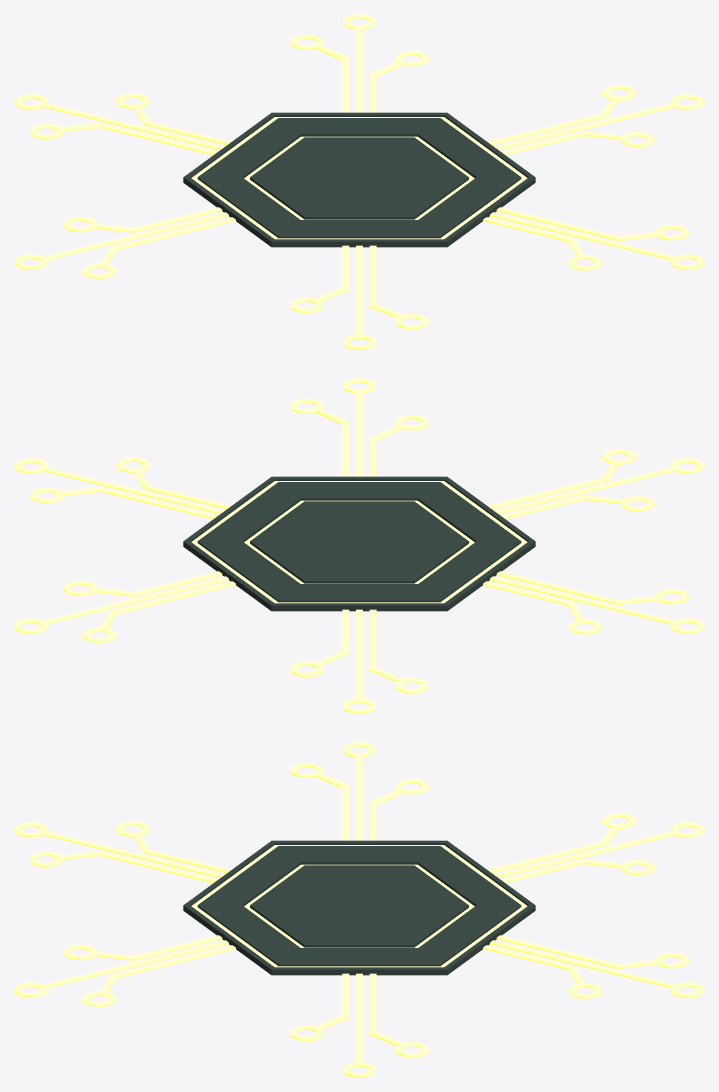
Rendered from SM_Spawn.fbx.
The picture shows the model from 3 angles, top to bottom: view 1: azimuth 30°, elevation 25°; view 2: azimuth 150°, elevation 25°; view 3: azimuth 270°, elevation 25°; orthographic projection.
Visible parts, largest first — view 1: Main, Circle.017, Extra (for lights); view 2: Main, Circle.017, Extra (for lights); view 3: Main, Circle.017, Extra (for lights).
Part boxes in pixels (left/top/right/bottom): Main: left=183, top=112, right=535, bottom=247; Circle.017: left=14, top=14, right=704, bottom=349; Extra (for lights): left=191, top=117, right=527, bottom=239; Main: left=183, top=476, right=535, bottom=611; Circle.017: left=14, top=378, right=704, bottom=713; Extra (for lights): left=191, top=481, right=527, bottom=603; Main: left=183, top=840, right=535, bottom=975; Circle.017: left=14, top=742, right=704, bottom=1077; Extra (for lights): left=191, top=845, right=527, bottom=967.
Size of the model in its own units: 144 by 1.11 by 126.
